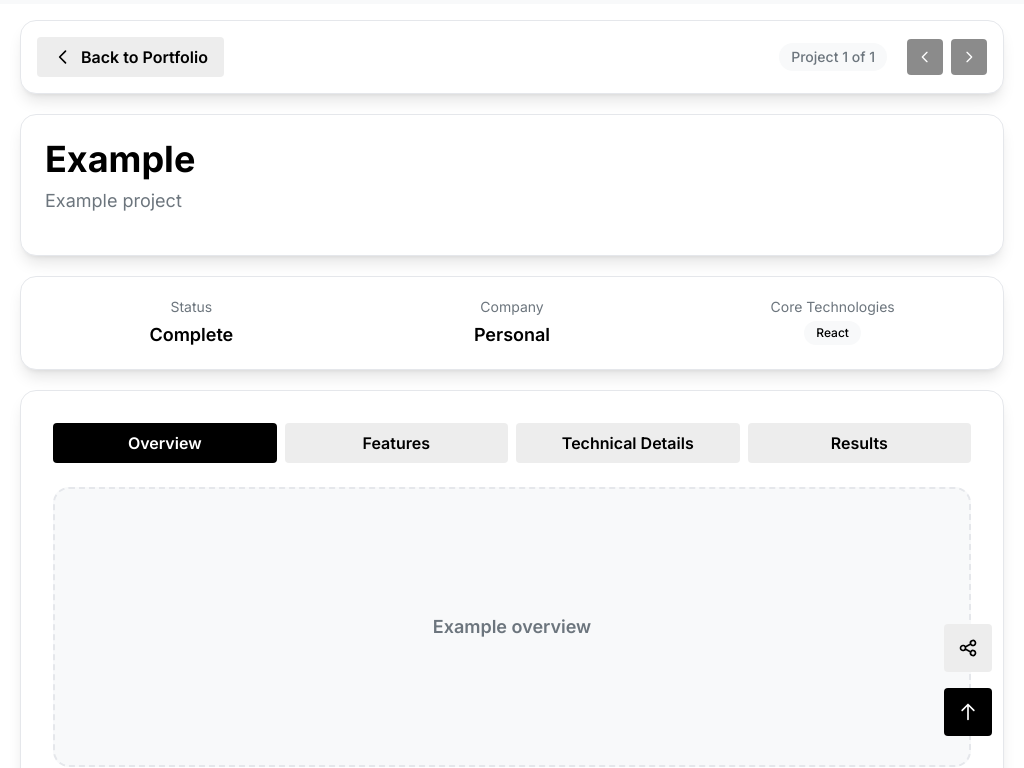
Test: optional project detail sections › hides the Challenges section when its data is null while retaining technical details
This screenshot has width=1024, height=768.
Click the button "Technical Details" at [628, 443], box [516, 423, 740, 463]
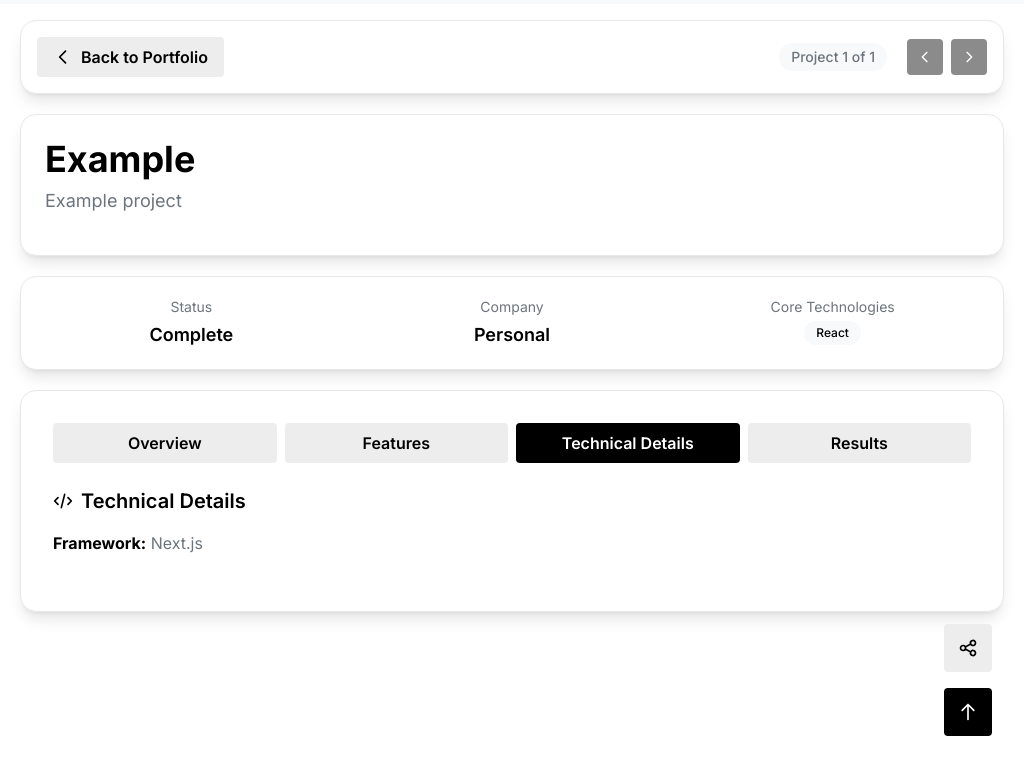
Now the text "Next.js" is shown, box [151, 533, 203, 553]
